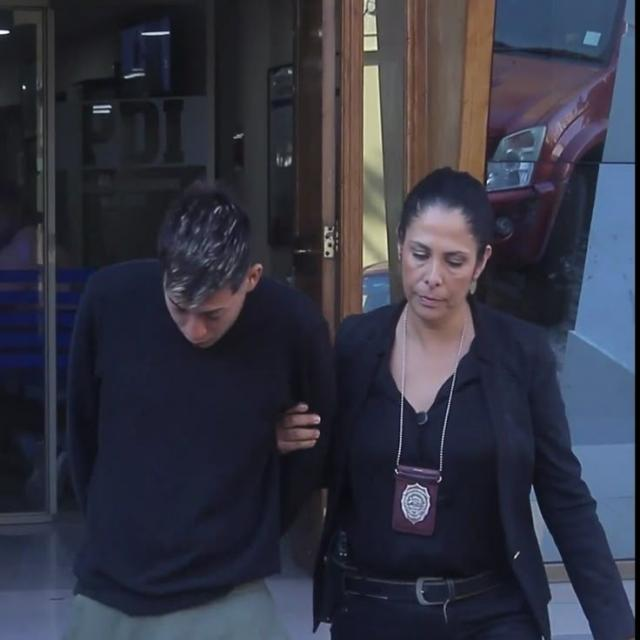9_cabeza_baja: (160, 185, 264, 350)
